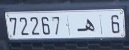2: (29, 16, 40, 35), (19, 17, 28, 36)
6: (110, 14, 121, 34), (41, 16, 51, 35)
7: (51, 16, 62, 36), (9, 17, 17, 36)
h: (75, 18, 96, 33)
